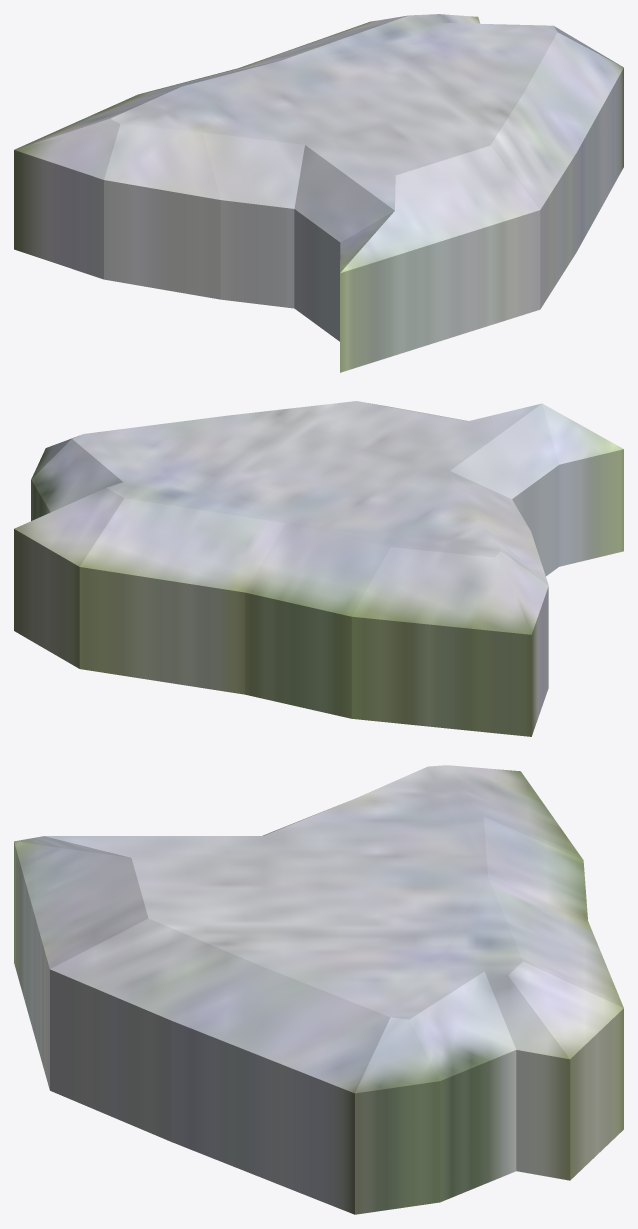
The model's file is stone.31.fbx.
The picture shows the model from 3 angles, top to bottom: view 1: azimuth 30°, elevation 25°; view 2: azimuth 150°, elevation 25°; view 3: azimuth 270°, elevation 25°; orthographic projection. The views are drawn at different scales.
Visible parts, largest first — view 1: stone.31; view 2: stone.31; view 3: stone.31.
Part boxes in pixels (x1,y1,x2,y2): stone.31: (14,14,623,372); stone.31: (14,401,623,736); stone.31: (14,765,623,1214).
Bounding box in the file's own units: 40.38 × 9.74 × 32.3.
1 material, 1 textured.
